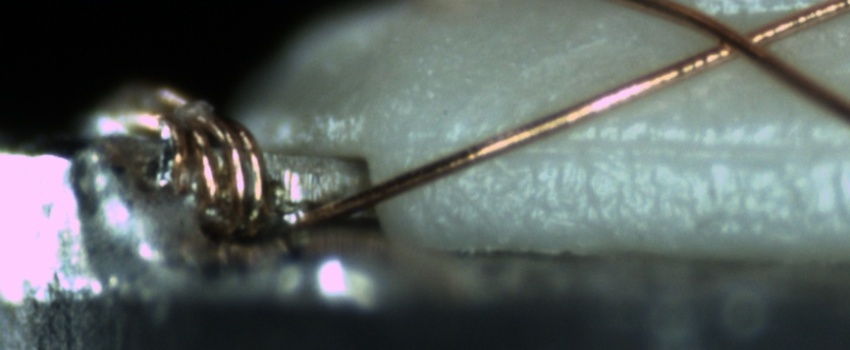CL: (689, 12, 785, 70)
DL: (409, 117, 850, 183)
TE: (87, 78, 271, 233)
